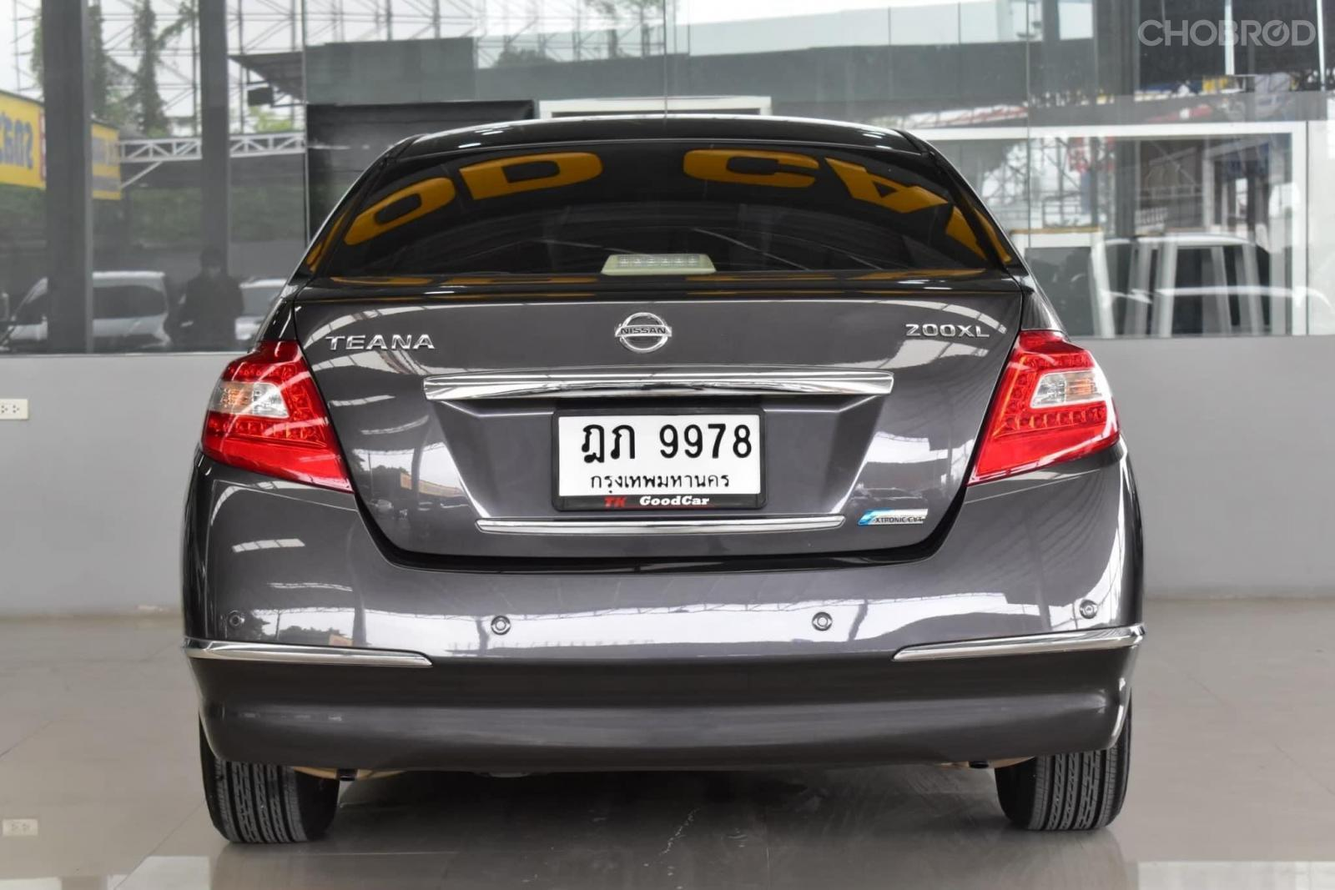license-plate: (538, 400, 782, 522)
